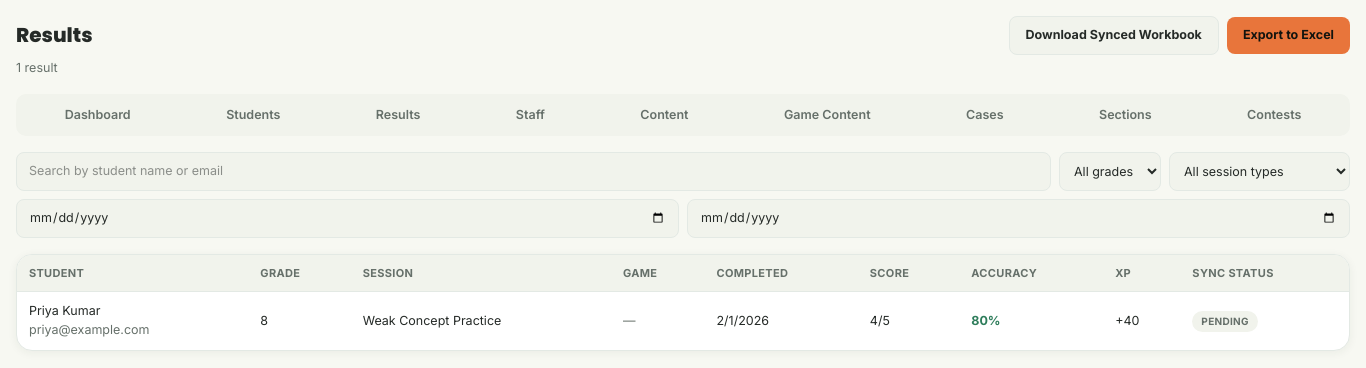
Test: AdminResults › shows an error and re-enables the button when export fails
This screenshot has width=1366, height=368.
Check: the text "Priya Kumar" is shown, box 29,303 -> 100,318
Click the button "Export to Excel" at (1288, 35), box 1227,17 -> 1350,54
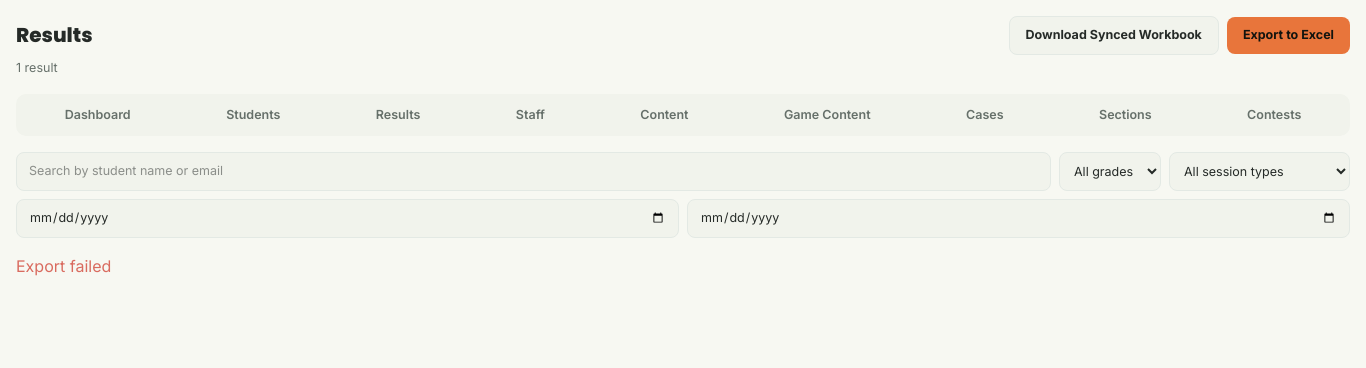
Check: the text "Export failed" is shown, box 16,256 -> 111,276
